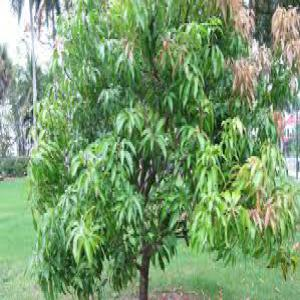Tree: (26, 0, 286, 293)
